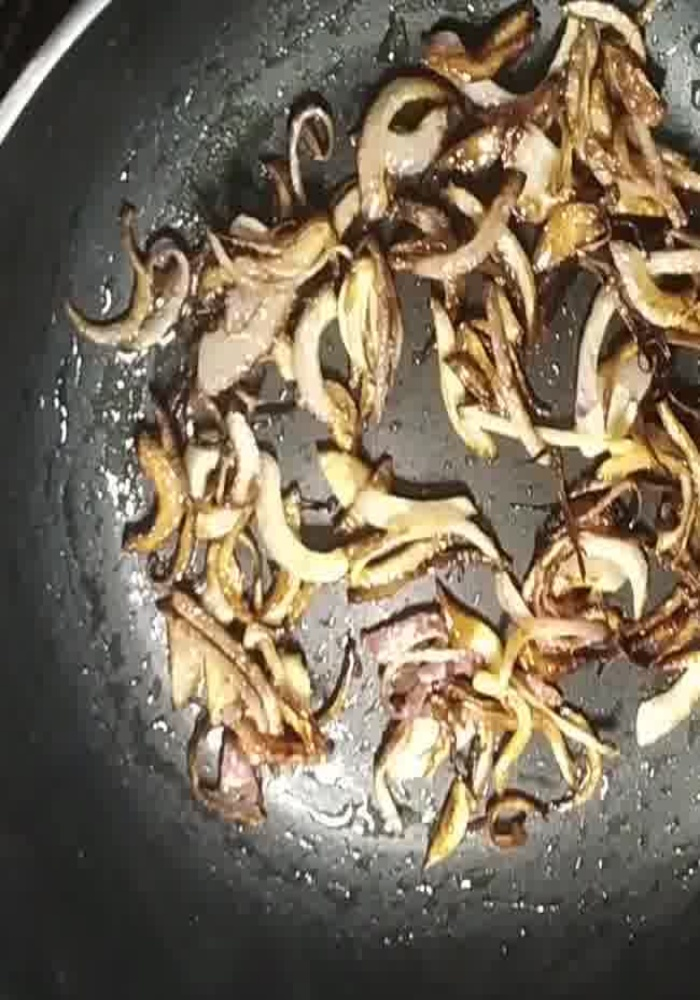onion_burnt: (133, 437, 333, 816), (407, 25, 700, 274), (367, 603, 604, 858), (196, 223, 431, 419), (537, 472, 700, 672), (571, 284, 695, 504), (425, 272, 551, 460), (342, 455, 496, 581), (78, 217, 204, 334)
